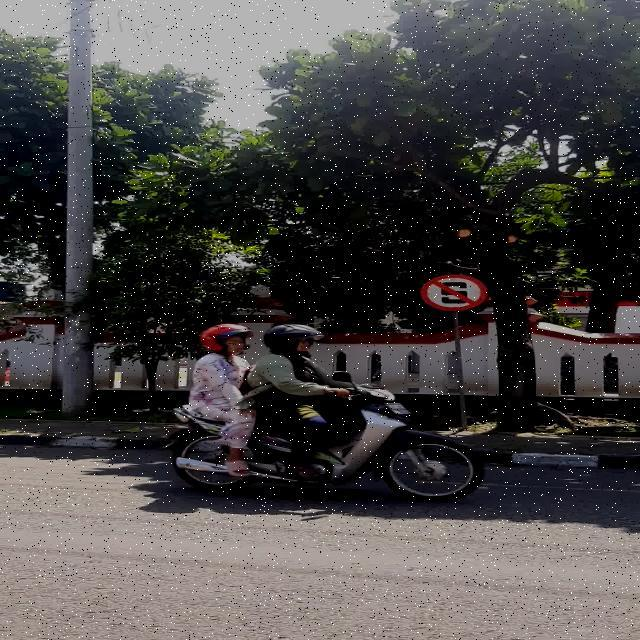Dilarang Berhenti: (420, 274, 488, 311)
